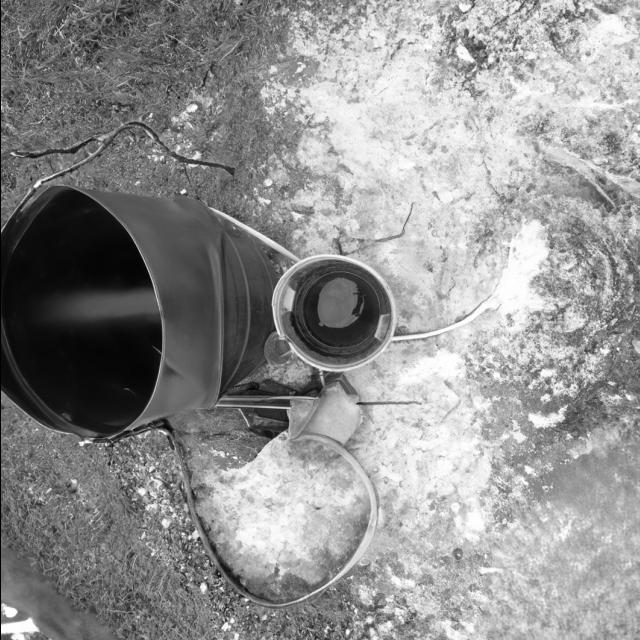Breeding Place: (0, 164, 294, 452), (247, 246, 413, 380)
